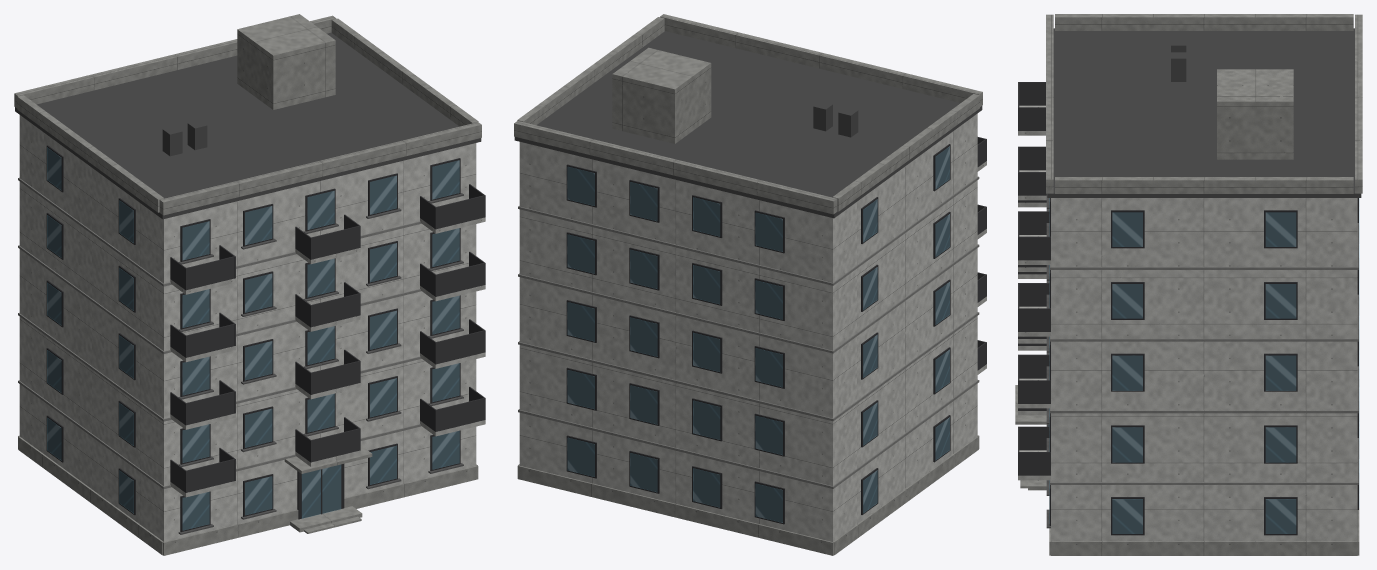
File: apartment_5story_variant_b.glb
3 renders of one model, left to right at view 1: azimuth 30°, elevation 25°; view 2: azimuth 150°, elevation 25°; view 3: azimuth 270°, elevation 25°, orthographic. The views are drawn at different scales.
Visible parts, largest first — view 1: concrete_B4B4B0, flat_2E2E30, flat_4A4A4A, concrete_8C8C88, glass_87CEEB, flat_3A3A3C, plaster_7A7A78, concrete_A8A8A4, concrete_555555; view 2: concrete_B4B4B0, flat_4A4A4A, concrete_8C8C88, flat_2E2E30, glass_87CEEB, plaster_7A7A78, flat_3A3A3C; view 3: concrete_B4B4B0, flat_4A4A4A, concrete_8C8C88, flat_2E2E30, glass_87CEEB, flat_3A3A3C, plaster_7A7A78, concrete_A8A8A4, concrete_555555.
Boxes of the visible parts, x1=… form: concrete_B4B4B0: x1=19, y1=115, x2=476, y2=541; flat_2E2E30: x1=46, y1=145, x2=460, y2=531; flat_4A4A4A: x1=15, y1=32, x2=481, y2=219; concrete_8C8C88: x1=14, y1=14, x2=481, y2=555; glass_87CEEB: x1=47, y1=147, x2=459, y2=530; flat_3A3A3C: x1=170, y1=184, x2=485, y2=492; plaster_7A7A78: x1=18, y1=177, x2=421, y2=489; concrete_A8A8A4: x1=170, y1=217, x2=485, y2=497; concrete_555555: x1=178, y1=193, x2=463, y2=534; concrete_B4B4B0: x1=519, y1=113, x2=977, y2=541; flat_4A4A4A: x1=514, y1=31, x2=982, y2=218; concrete_8C8C88: x1=514, y1=14, x2=982, y2=555; flat_2E2E30: x1=566, y1=144, x2=950, y2=524; glass_87CEEB: x1=567, y1=146, x2=949, y2=522; plaster_7A7A78: x1=518, y1=176, x2=979, y2=488; flat_3A3A3C: x1=977, y1=137, x2=986, y2=370; concrete_B4B4B0: x1=1051, y1=198, x2=1357, y2=541; flat_4A4A4A: x1=1047, y1=28, x2=1361, y2=197; concrete_8C8C88: x1=1015, y1=14, x2=1362, y2=555; flat_2E2E30: x1=1047, y1=198, x2=1358, y2=535; glass_87CEEB: x1=1048, y1=198, x2=1359, y2=533; flat_3A3A3C: x1=1018, y1=82, x2=1050, y2=475; plaster_7A7A78: x1=1050, y1=223, x2=1358, y2=484; concrete_A8A8A4: x1=1018, y1=105, x2=1050, y2=480; concrete_555555: x1=1046, y1=194, x2=1050, y2=528.
Size of the model in its own units: 15.4 by 18.2 by 13.6.
9 materials, 9 textured.
